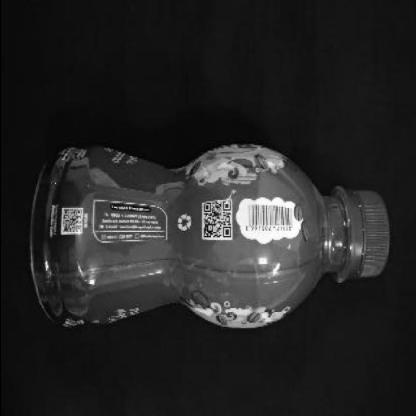plastic_bottles: (25, 140, 392, 334)
